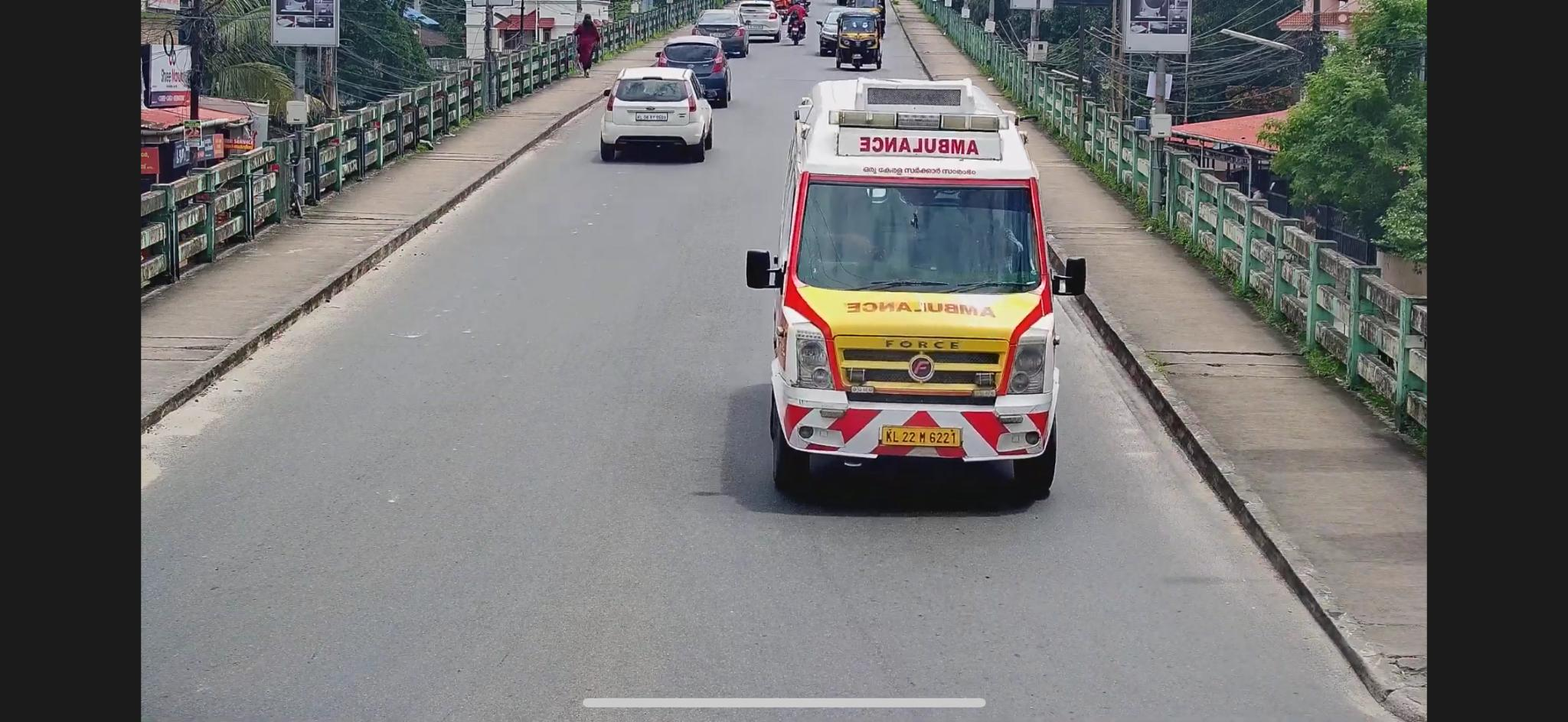ambulance: (756, 73, 1081, 509)
